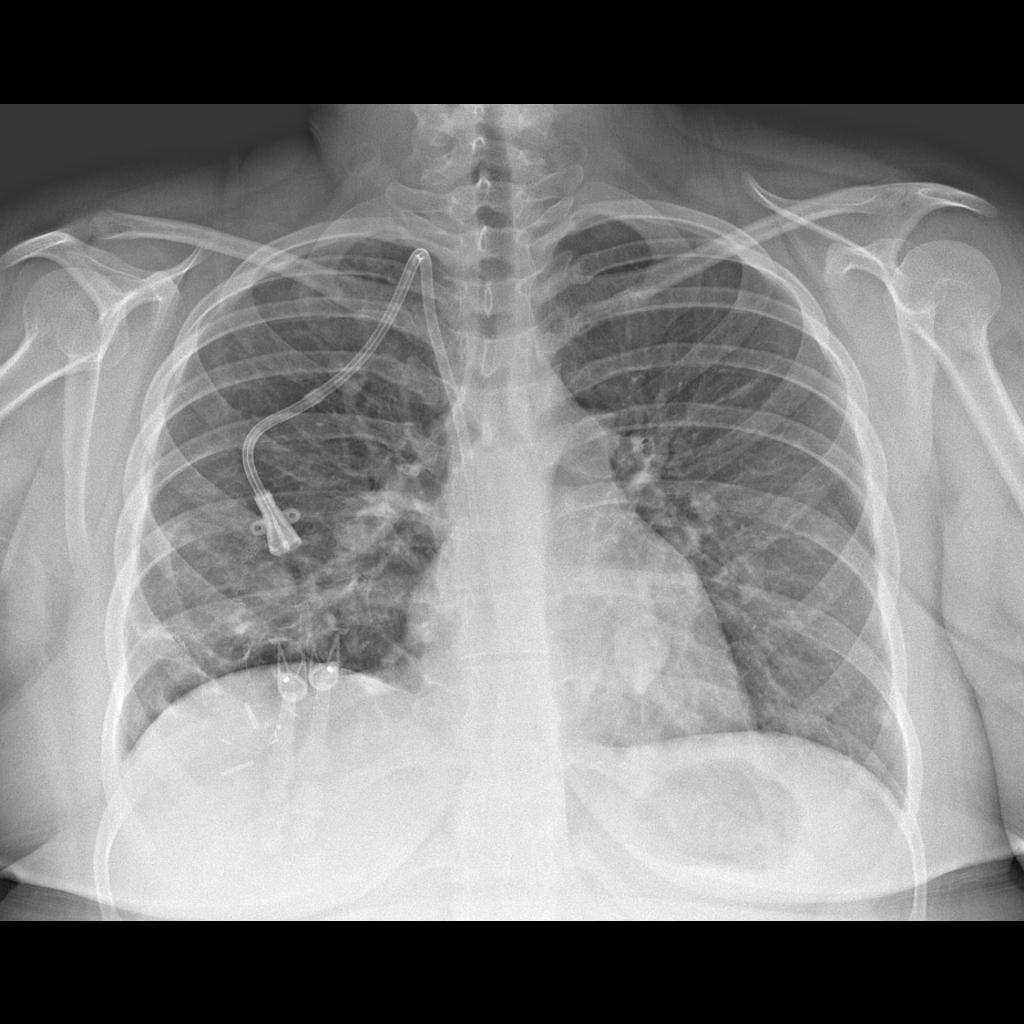Nodule: (608, 606, 671, 709)
